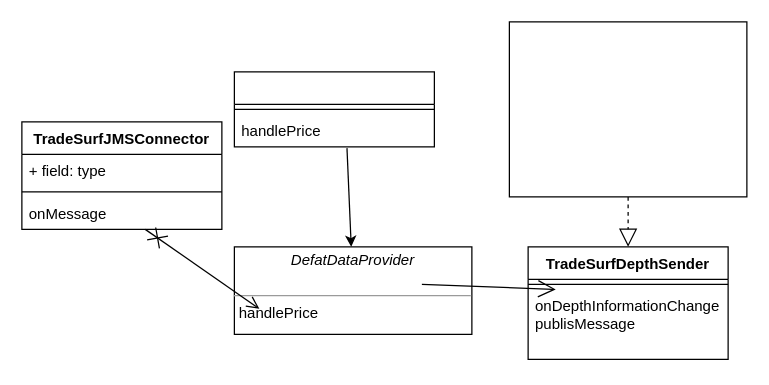
The diagram is 769 pixels wide and 385 high, and some of its shapes have lost their labels. The box of each missing label's shape, as (x1, y1, x2, y2) in pixels:
<<Interface>> RoutingUpdater onDepthInformationChange: (508, 21, 747, 197)
FixDataProvider: (233, 71, 434, 147)
